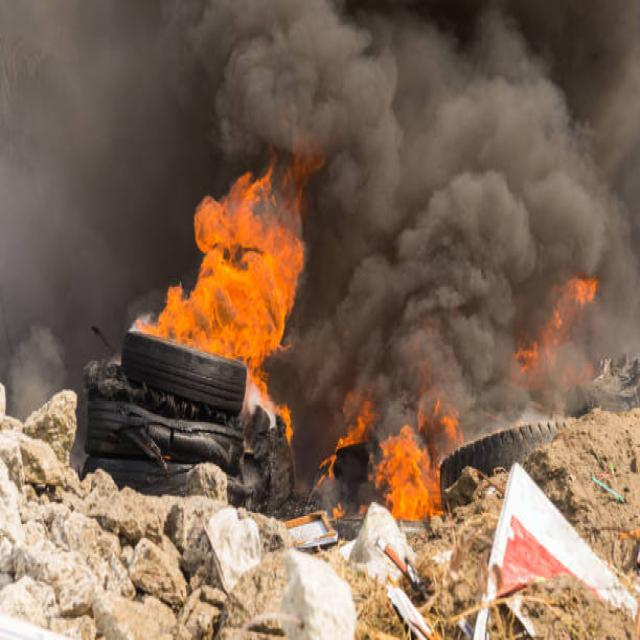fire: (135, 165, 304, 373), (377, 422, 442, 521), (321, 407, 368, 480)
